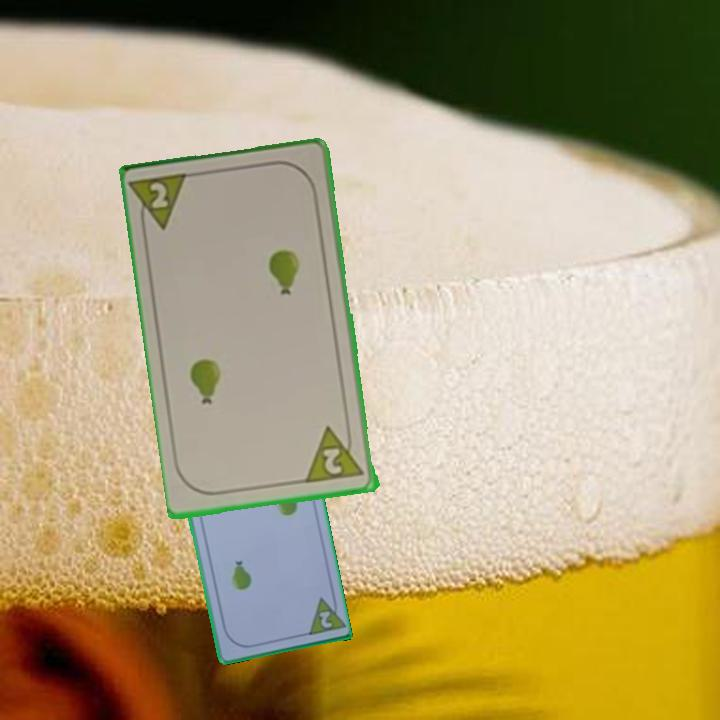2p: (129, 170, 194, 237), (320, 445, 346, 478), (315, 607, 335, 631)
